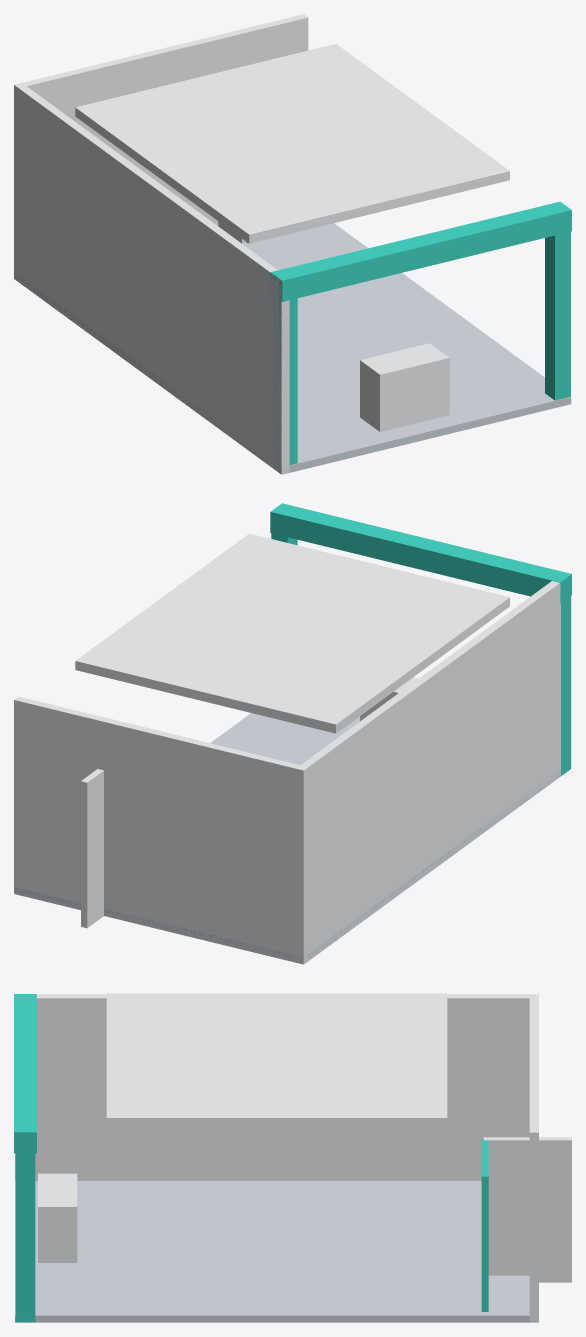
The picture shows the model from 3 angles, top to bottom: view 1: azimuth 30°, elevation 25°; view 2: azimuth 150°, elevation 25°; view 3: azimuth 270°, elevation 25°; orthographic projection. The views are drawn at different scales.
Visible parts, largest first — view 1: Exhibition Booth Concept; view 2: Exhibition Booth Concept; view 3: Exhibition Booth Concept.
Boxes of the visible parts, left/top/right/bottom form: Exhibition Booth Concept: left=14, top=14, right=571, bottom=474; Exhibition Booth Concept: left=14, top=503, right=571, bottom=964; Exhibition Booth Concept: left=14, top=993, right=571, bottom=1322.
Bounding box in the file's own units: 5 × 3.34 × 8.52.
